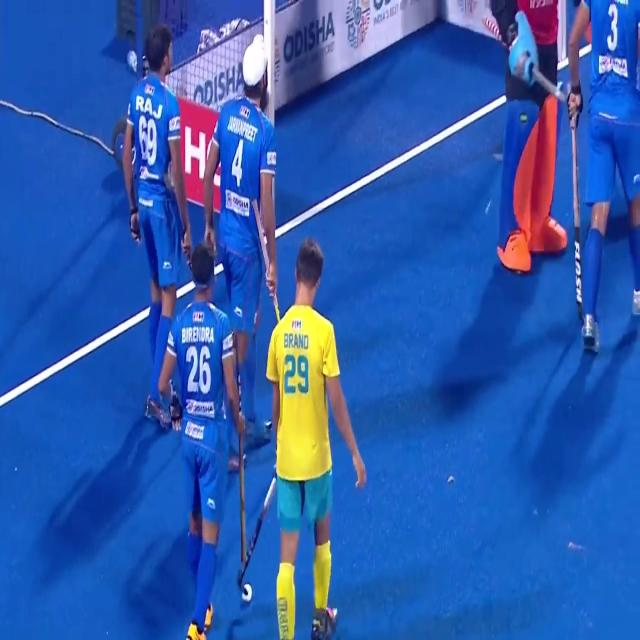ball: (230, 566, 261, 610)
